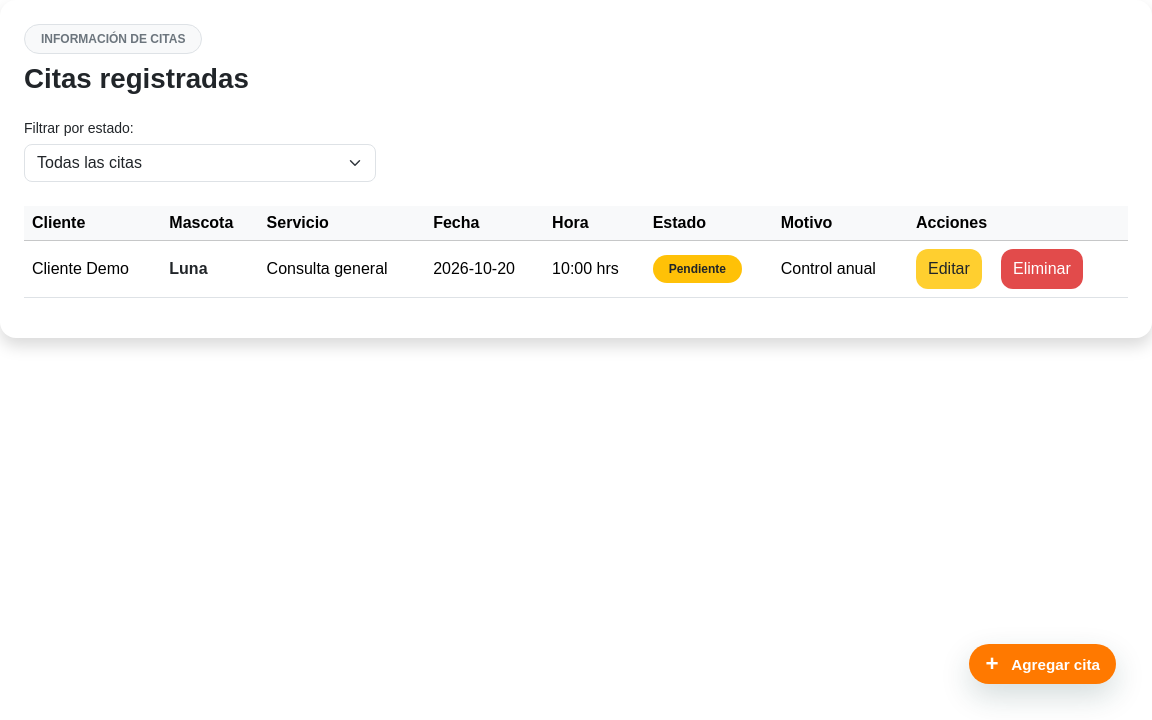
Test case: abre la edición administrativa de una cita en un overlay
The width and height of the screenshot is (1152, 720).
Click the button "Editar" at (949, 269), box [916, 249, 982, 289]
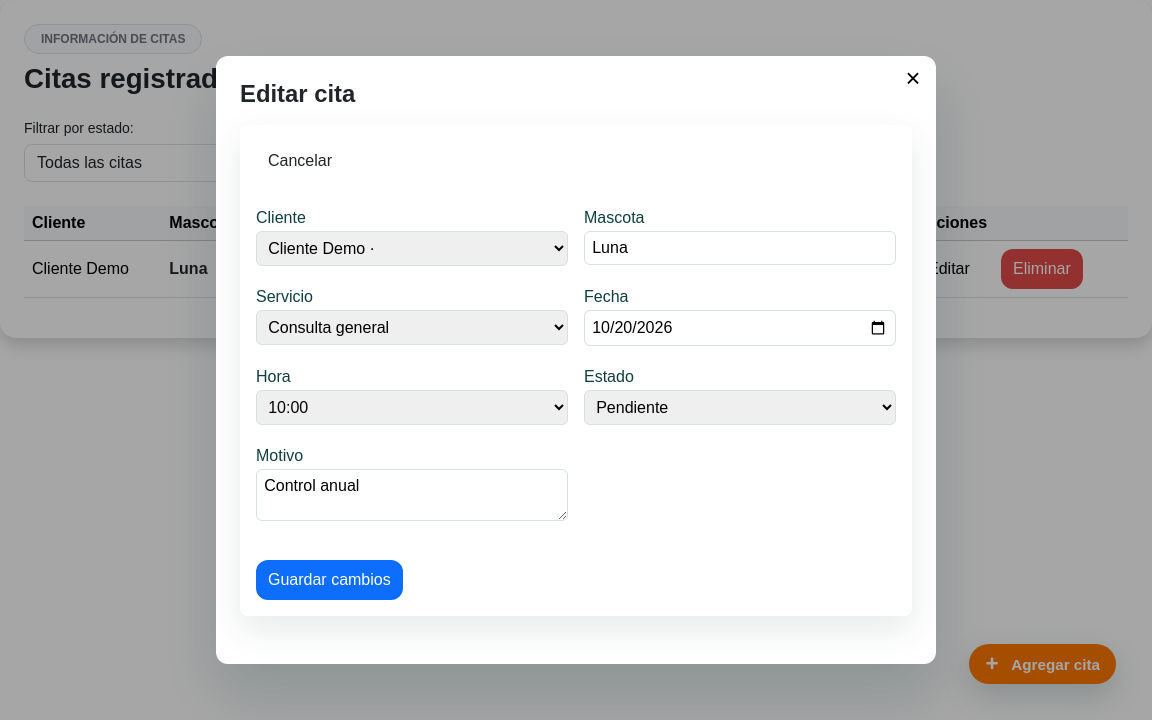
Check: the dialog is shown
Check: the heading "Editar cita" is shown, box [240, 80, 355, 107]
Check: the field showing "Luna" is shown, box [584, 231, 896, 265]
